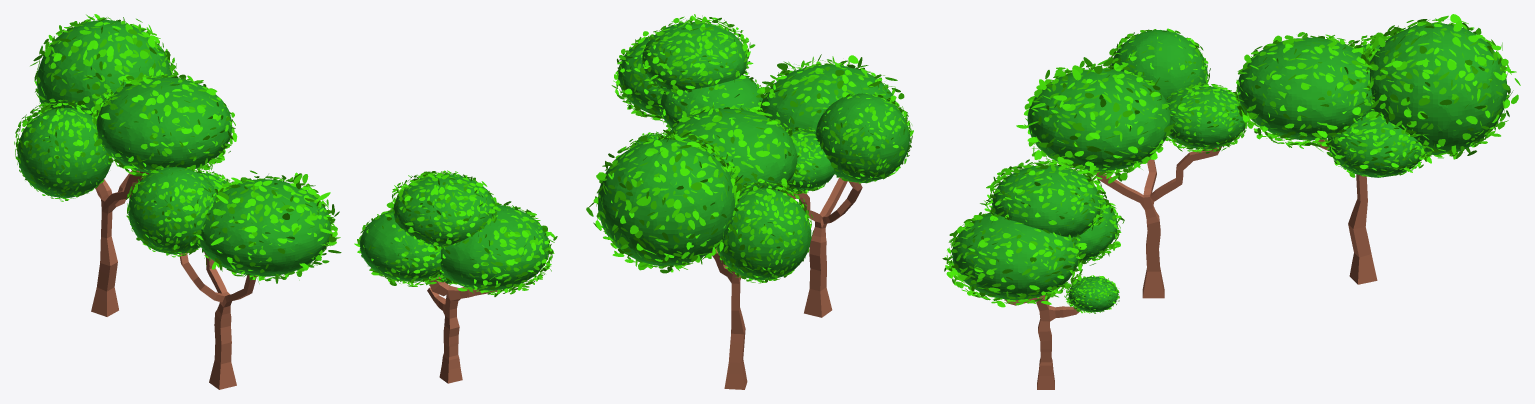
File: WitFix.fbx
3 renders of one model, left to right at view 1: azimuth 30°, elevation 25°; view 2: azimuth 150°, elevation 25°; view 3: azimuth 270°, elevation 25°, orthographic. The views are drawn at different scales.
Visible parts, largest first — view 1: Sphere.003, Sphere, Sphere.004, Sphere.006, Cube.003, Sphere.007, Sphere.002, Cube.006, Cube.005, Sphere.009, Cube.008, Sphere.008 (+7 smaller); view 2: Sphere.004, Cube.006, Sphere.002, Sphere.006, Sphere.003, Sphere.009, Sphere, Cube.008, Cube.001, Plane, Cube.003, Cube.005 (+8 smaller); view 3: Sphere.004, Sphere.003, Sphere, Cube.006, Sphere.007, Cube.003, Sphere.009, Cube.005, Cube.007, Sphere.002, Sphere.001, Sphere.005 (+11 smaller).
Boxes of the visible parts, bbox=[...] form: Sphere.003: bbox=[96, 77, 231, 172]; Sphere: bbox=[199, 179, 330, 276]; Sphere.004: bbox=[36, 20, 171, 115]; Sphere.006: bbox=[17, 107, 112, 197]; Cube.003: bbox=[196, 170, 341, 283]; Sphere.007: bbox=[440, 205, 548, 290]; Sphere.002: bbox=[128, 167, 216, 254]; Cube.006: bbox=[30, 14, 178, 117]; Cube.005: bbox=[92, 69, 237, 176]; Sphere.009: bbox=[393, 174, 495, 246]; Cube.008: bbox=[386, 170, 498, 251]; Sphere.008: bbox=[360, 211, 441, 281]; Sphere.004: bbox=[598, 139, 736, 266]; Cube.006: bbox=[586, 129, 743, 273]; Sphere.002: bbox=[815, 93, 909, 182]; Sphere.006: bbox=[716, 188, 811, 280]; Sphere.003: bbox=[664, 108, 797, 193]; Sphere.009: bbox=[642, 22, 747, 91]; Sphere: bbox=[760, 64, 897, 134]; Cube.008: bbox=[641, 14, 755, 95]; Cube.001: bbox=[715, 181, 813, 283]; Plane: bbox=[782, 177, 862, 317]; Cube.003: bbox=[749, 54, 907, 124]; Cube.005: bbox=[662, 104, 802, 193]; Sphere.004: bbox=[1369, 23, 1507, 154]; Sphere.003: bbox=[1237, 37, 1372, 140]; Sphere: bbox=[1027, 68, 1170, 171]; Cube.006: bbox=[1361, 14, 1520, 161]; Sphere.007: bbox=[952, 212, 1079, 300]; Cube.003: bbox=[1016, 57, 1173, 183]; Sphere.009: bbox=[992, 165, 1101, 237]; Cube.005: bbox=[1234, 32, 1374, 151]; Cube.007: bbox=[942, 212, 1087, 307]; Sphere.002: bbox=[1111, 30, 1207, 101]; Sphere.001: bbox=[1167, 86, 1246, 148]; Sphere.005: bbox=[1328, 110, 1425, 177].
Bounding box in the file's own units: 1667 × 1196 × 2253.
